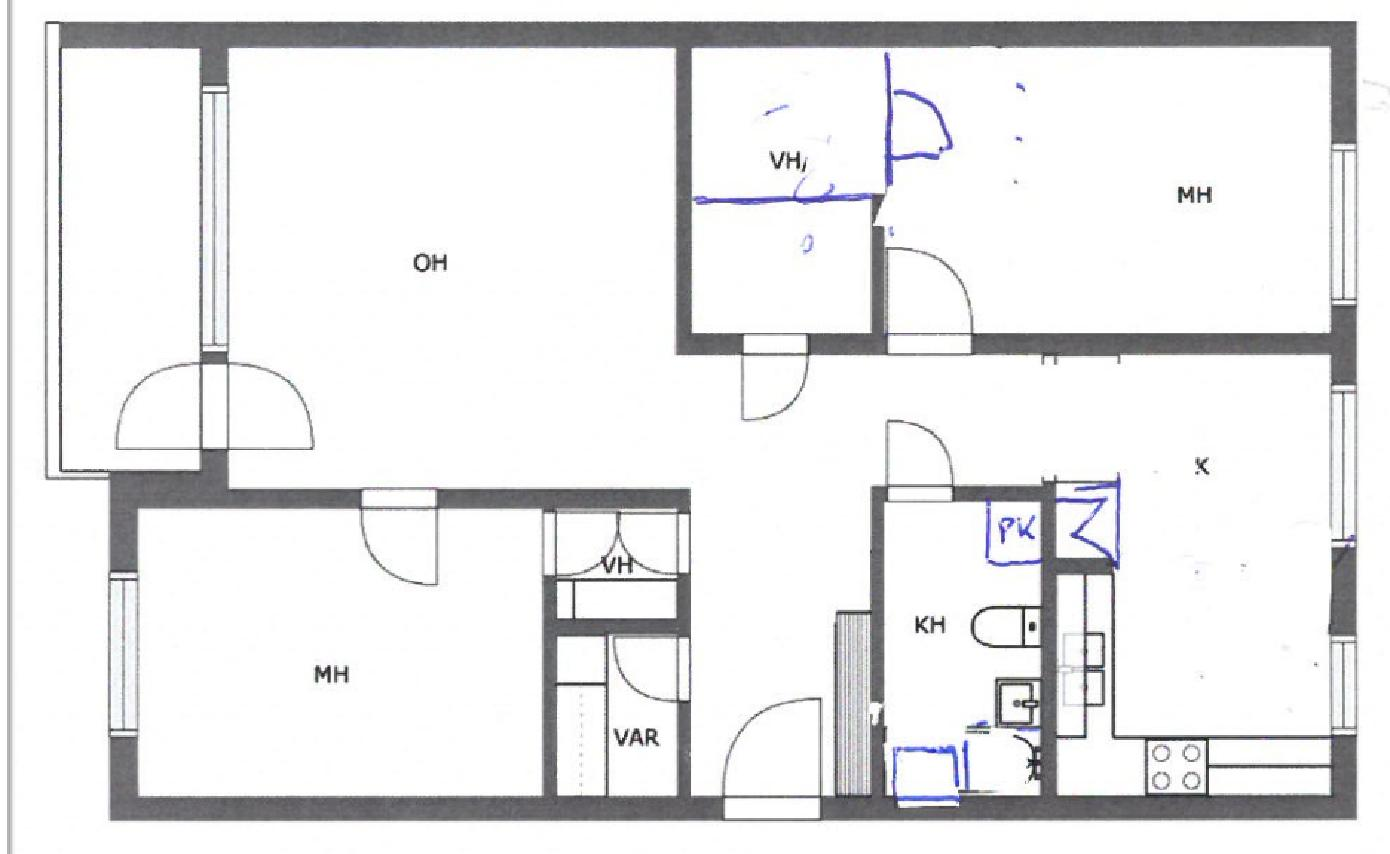door: (227, 47, 1327, 799), (888, 41, 1333, 329), (137, 506, 542, 802), (60, 49, 198, 475), (880, 505, 1045, 795), (693, 45, 886, 202), (690, 202, 873, 334), (555, 634, 677, 795), (555, 509, 676, 615)
window: (106, 360, 318, 460), (723, 688, 823, 818), (880, 244, 971, 355), (359, 489, 443, 590), (740, 333, 812, 427), (881, 415, 956, 504), (611, 631, 693, 707), (542, 513, 618, 577), (617, 510, 688, 577)
zone: (200, 86, 229, 349), (105, 572, 135, 736), (1330, 382, 1352, 542), (1335, 144, 1354, 307), (1326, 637, 1355, 738)
